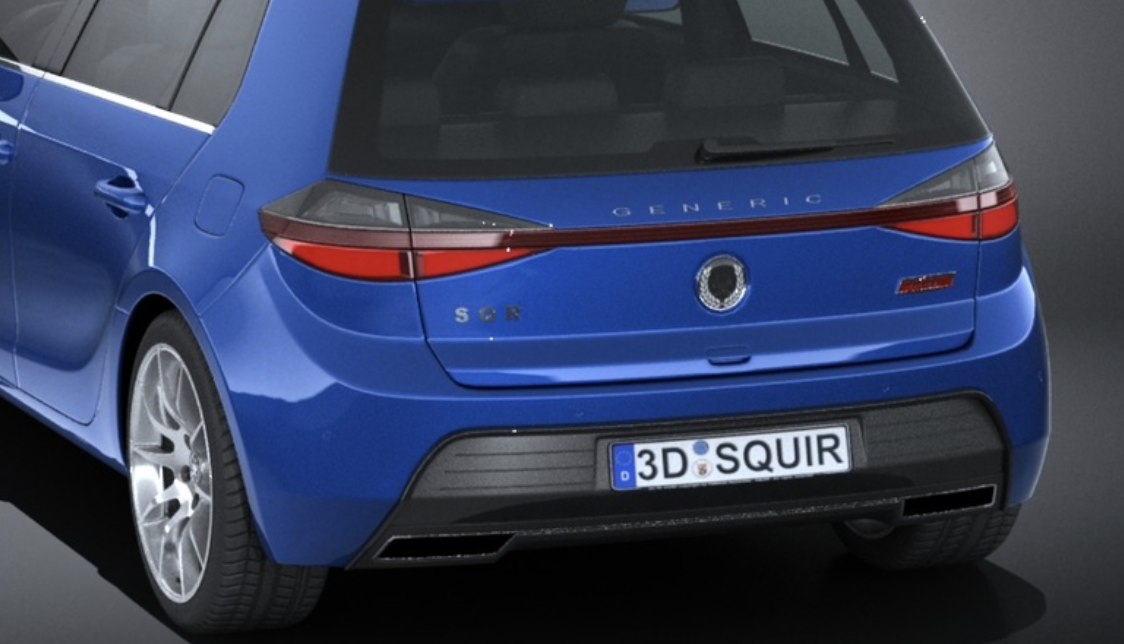hatch: (191, 170, 247, 241)
